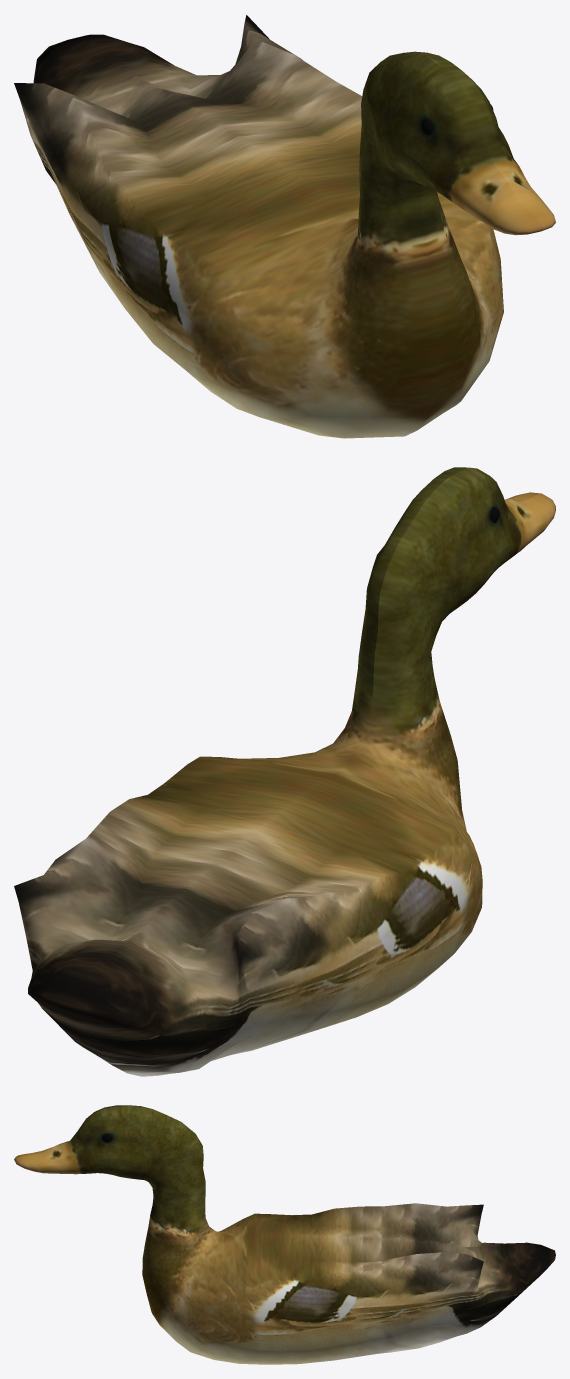
Rendered from Duck.FBX.
3 renders of one model, top to bottom at view 1: azimuth 30°, elevation 25°; view 2: azimuth 150°, elevation 25°; view 3: azimuth 270°, elevation 25°, orthographic. The views are drawn at different scales.
Visible parts, largest first — view 1: duck; view 2: duck; view 3: duck.
Boxes of the visible parts, x1,y1,x2,y2 form: duck: (14, 15, 555, 438); duck: (14, 467, 555, 1076); duck: (14, 1105, 555, 1364).
Bounding box in the file's own units: 0.1698 × 0.2352 × 0.4726.
